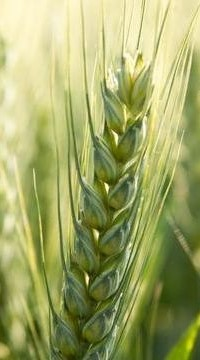Healthy Wheat: (53, 49, 168, 352)
